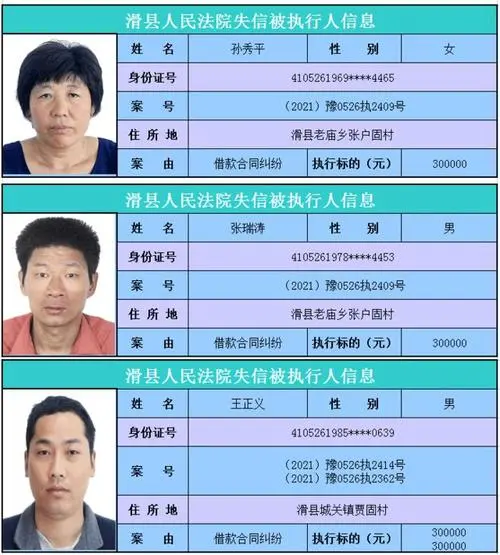normal: (16, 216, 105, 330), (20, 396, 99, 517), (18, 42, 100, 146)
